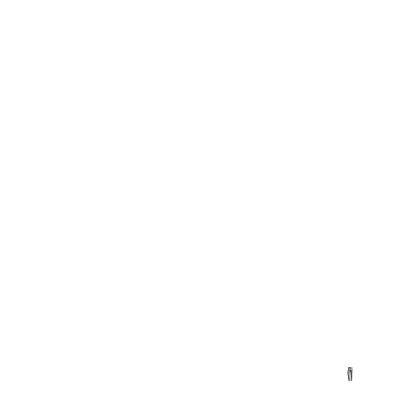Trouser: (343, 367, 357, 381)
